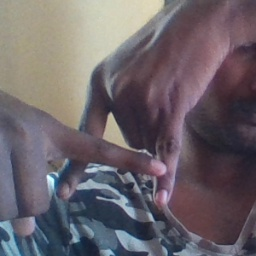H: (50, 81, 193, 218)
